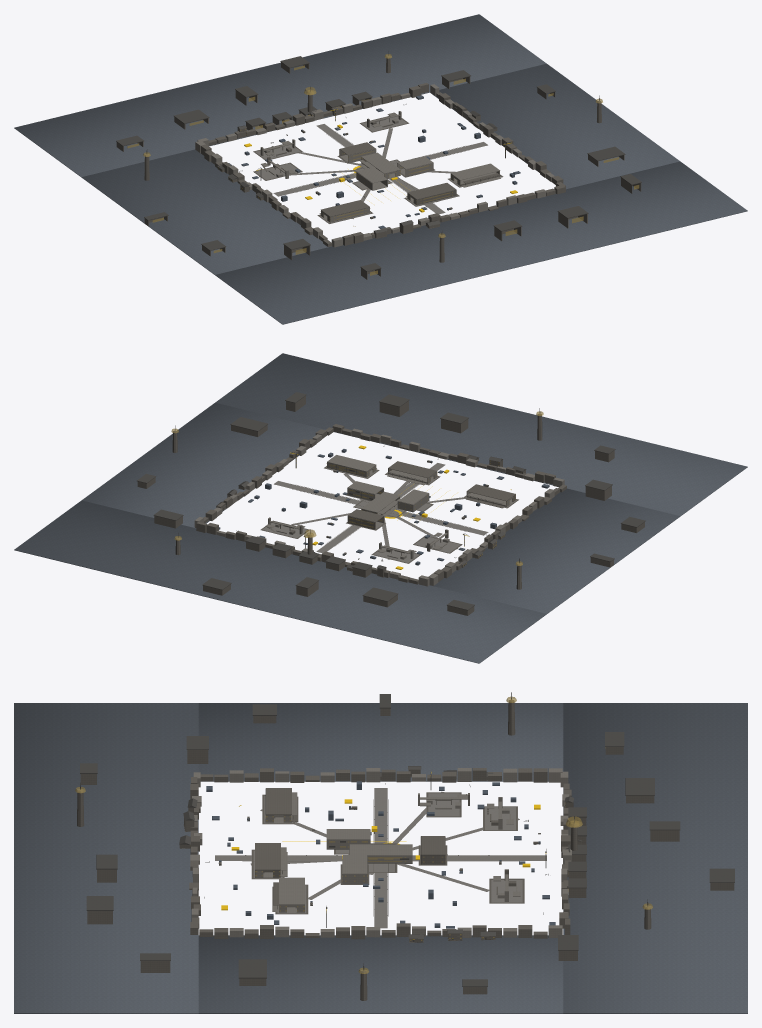
The model's file is kuko-lod1.glb.
3 renders of one model, top to bottom at view 1: azimuth 30°, elevation 25°; view 2: azimuth 150°, elevation 25°; view 3: azimuth 270°, elevation 25°, orthographic. The views are drawn at different scales.
Visible parts, largest first — view 1: HB_kuko_LOD1_terrain, HB_kuko_LOD1_wall_alt, HB_kuko_LOD1_wall, HB_kuko_LOD1_trim, HB_kuko_LOD1_road, HB_kuko_LOD1_glass, HB_kuko_LOD1_obstacle; view 2: HB_kuko_LOD1_terrain, HB_kuko_LOD1_wall_alt, HB_kuko_LOD1_wall, HB_kuko_LOD1_trim, HB_kuko_LOD1_road, HB_kuko_LOD1_obstacle, HB_kuko_LOD1_glass; view 3: HB_kuko_LOD1_terrain, HB_kuko_LOD1_wall_alt, HB_kuko_LOD1_wall, HB_kuko_LOD1_trim, HB_kuko_LOD1_road, HB_kuko_LOD1_obstacle, HB_kuko_LOD1_glass.
Boxes of the visible parts, left/top/right/bottom form: HB_kuko_LOD1_terrain: left=14, top=14, right=747, bottom=324; HB_kuko_LOD1_wall_alt: left=116, top=56, right=641, bottom=279; HB_kuko_LOD1_wall: left=195, top=84, right=554, bottom=247; HB_kuko_LOD1_trim: left=116, top=51, right=641, bottom=271; HB_kuko_LOD1_road: left=253, top=116, right=502, bottom=223; HB_kuko_LOD1_glass: left=127, top=54, right=639, bottom=275; HB_kuko_LOD1_obstacle: left=228, top=95, right=520, bottom=238; HB_kuko_LOD1_terrain: left=14, top=353, right=747, bottom=663; HB_kuko_LOD1_wall_alt: left=137, top=396, right=644, bottom=615; HB_kuko_LOD1_wall: left=194, top=428, right=564, bottom=586; HB_kuko_LOD1_trim: left=137, top=392, right=645, bottom=610; HB_kuko_LOD1_road: left=262, top=463, right=518, bottom=563; HB_kuko_LOD1_obstacle: left=219, top=449, right=549, bottom=565; HB_kuko_LOD1_glass: left=171, top=411, right=543, bottom=565; HB_kuko_LOD1_terrain: left=14, top=703, right=747, bottom=1013; HB_kuko_LOD1_wall_alt: left=77, top=700, right=734, bottom=1000; HB_kuko_LOD1_wall: left=190, top=768, right=571, bottom=937; HB_kuko_LOD1_trim: left=80, top=692, right=734, bottom=986; HB_kuko_LOD1_road: left=215, top=788, right=546, bottom=928; HB_kuko_LOD1_obstacle: left=206, top=781, right=555, bottom=928; HB_kuko_LOD1_glass: left=75, top=696, right=652, bottom=973.
Bounding box in the file's own units: 677 × 44.86 × 676.
Materials: 8 (7 with a texture image).
